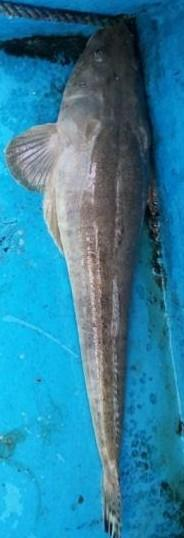fish: (7, 17, 155, 537)
